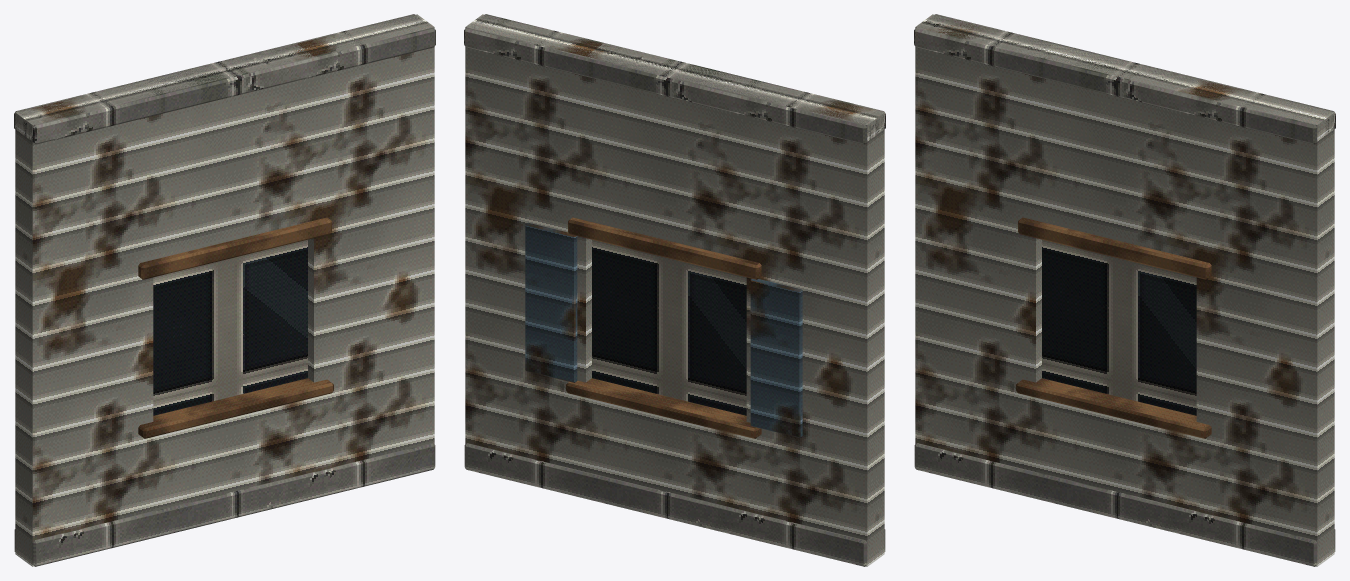
Rendered from wall_siding_white_glass.glb.
The picture shows the model from 3 angles, left to right: view 1: azimuth 30°, elevation 25°; view 2: azimuth 150°, elevation 25°; view 3: azimuth 330°, elevation 25°; orthographic projection.
Visible parts, largest first — view 1: wall_siding_white_glass_mesh; view 2: wall_siding_white_glass_mesh; view 3: wall_siding_white_glass_mesh.
Boxes of the visible parts, left/top/right/bottom form: wall_siding_white_glass_mesh: left=14, top=14, right=435, bottom=566; wall_siding_white_glass_mesh: left=464, top=14, right=885, bottom=566; wall_siding_white_glass_mesh: left=914, top=14, right=1335, bottom=566.
Size of what is drawn, in the model's own units: 4 by 4.2 by 0.5.
Materials: 5 (5 with a texture image).
